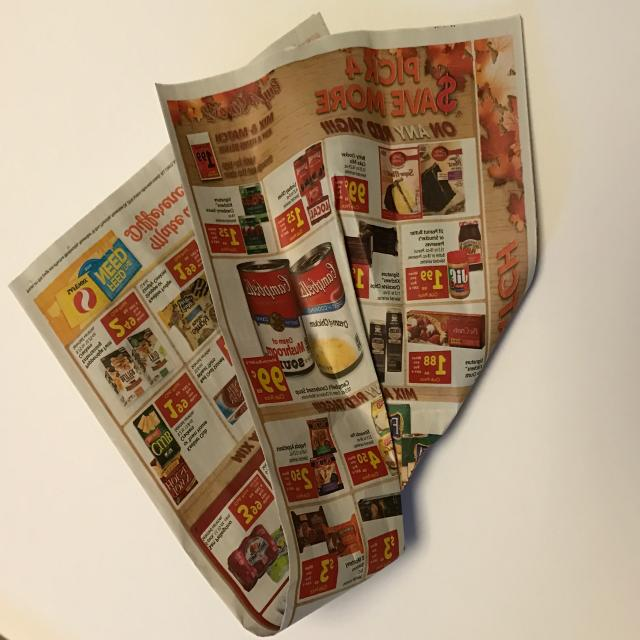paper: (9, 4, 542, 636)
